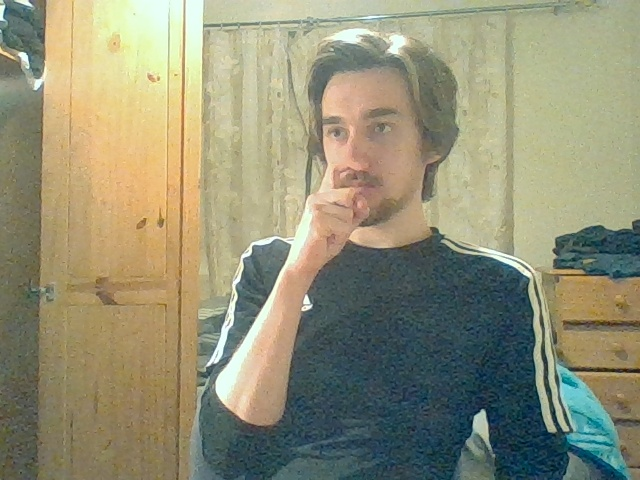sister: (304, 156, 373, 252)
